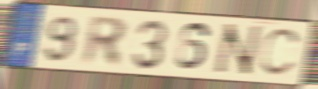3: (130, 18, 169, 71)
6: (175, 21, 212, 75)
9: (41, 14, 83, 64)
C: (257, 27, 304, 79)
N: (210, 22, 265, 78)
R: (80, 14, 129, 69)
